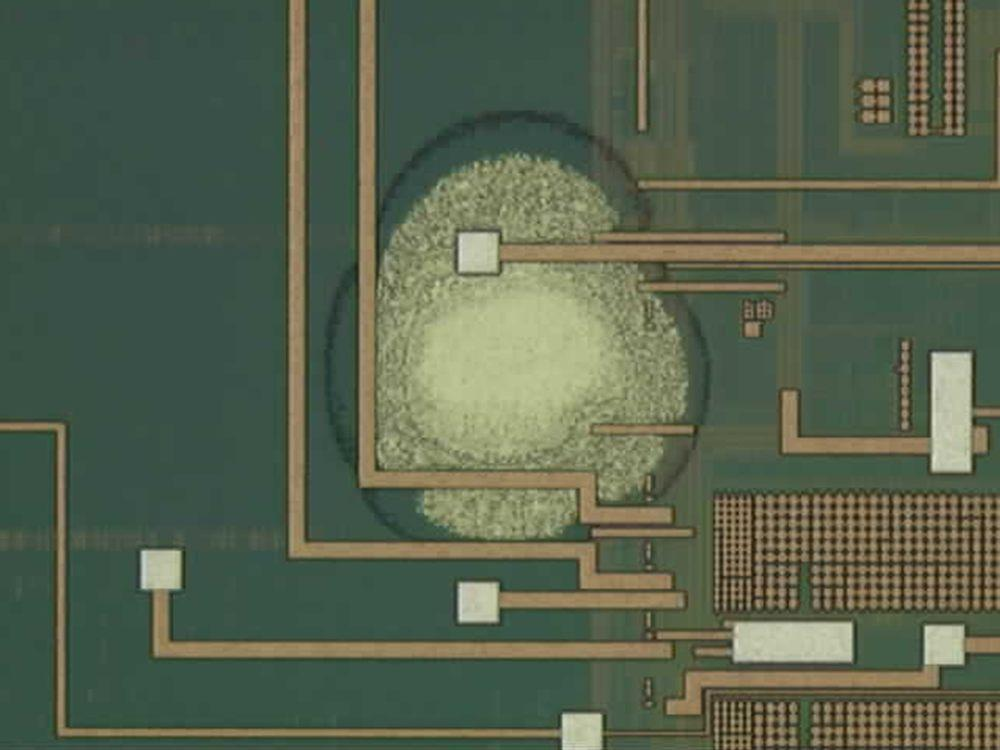BLOCK ETCH: (313, 109, 722, 575)
